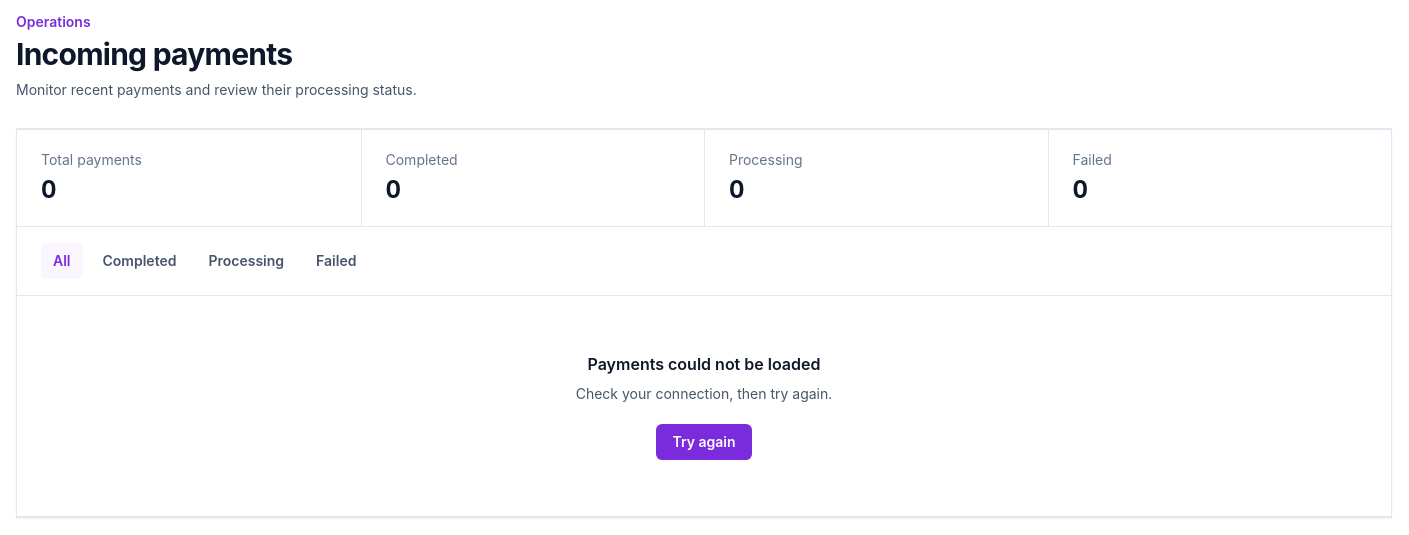
Test: DashboardPage › shows an error and retries
This screenshot has width=1409, height=535.
Check: the heading "Payments could not be loaded" is shown, box [588,354,820,374]
Click the button "Try again" at (704, 442), box [656,424,752,460]
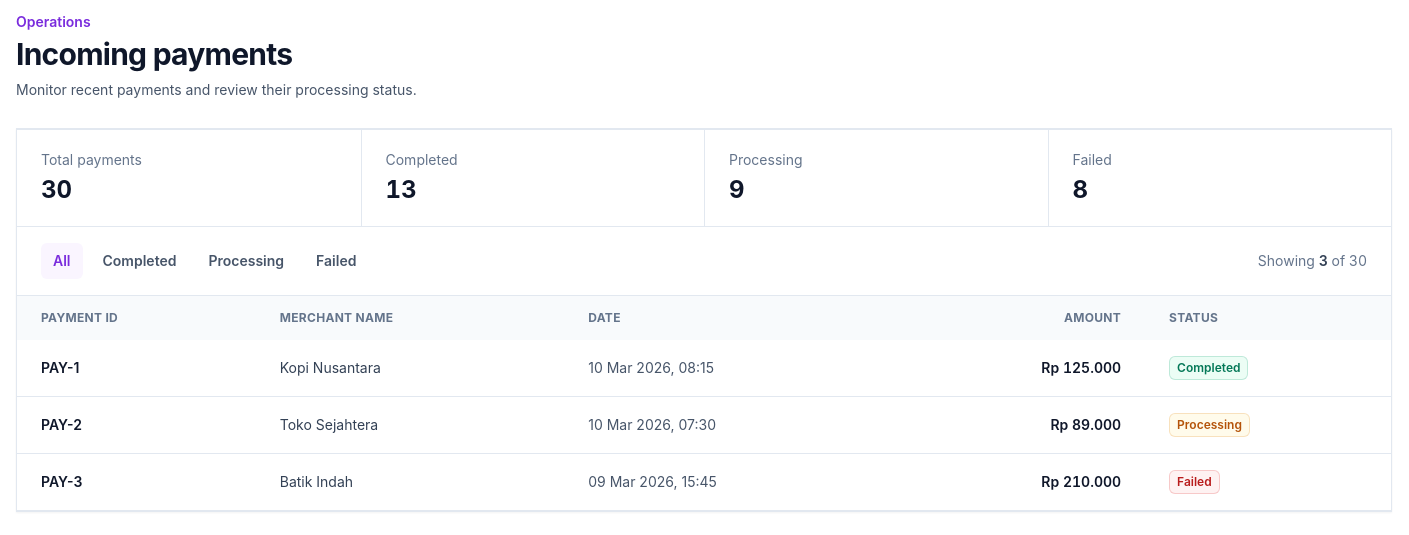
Check: the text "PAY-1" is shown, box [17,340,256,396]
